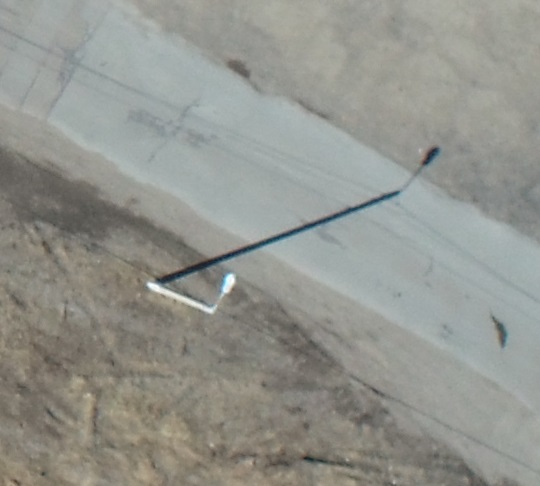opora: (143, 251, 245, 318)
